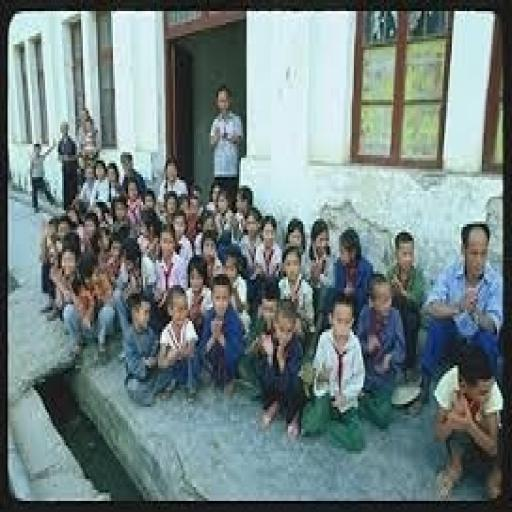clapping: (30, 102, 506, 498)
